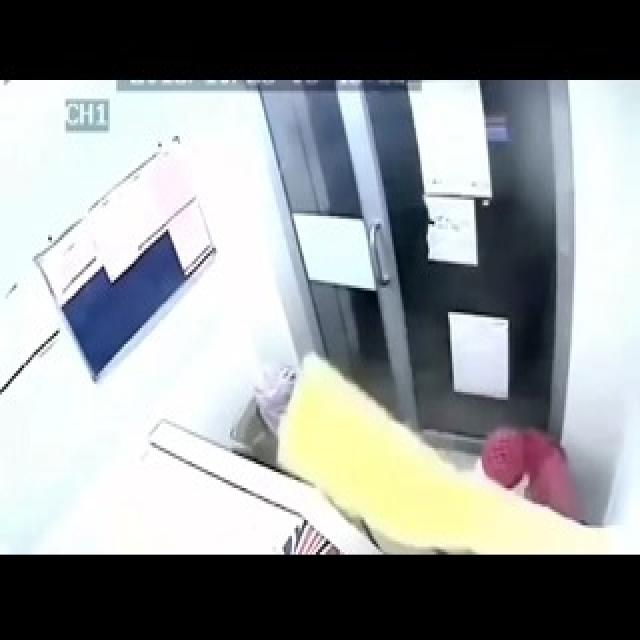thief: (247, 357, 568, 567)
